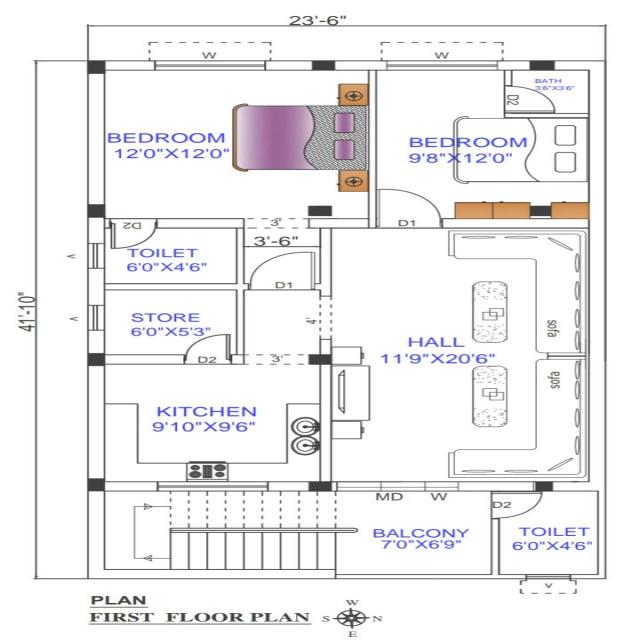Blueprint: (80, 56, 613, 584)
column: (79, 349, 115, 370), (524, 478, 564, 496), (520, 56, 559, 74), (80, 202, 115, 222), (299, 478, 340, 494), (302, 351, 338, 368), (81, 475, 110, 496), (304, 58, 341, 74), (302, 204, 339, 220), (81, 57, 109, 76), (525, 202, 556, 218)
wall: (588, 70, 608, 491), (86, 73, 106, 205), (104, 569, 337, 579), (87, 365, 105, 479), (87, 491, 106, 579), (368, 70, 378, 229), (319, 364, 331, 482), (235, 227, 246, 354), (334, 573, 527, 580), (442, 219, 590, 228), (102, 283, 250, 290), (157, 218, 246, 228), (106, 354, 184, 365), (458, 481, 536, 492), (321, 228, 333, 296), (86, 268, 105, 306), (104, 59, 158, 72), (598, 490, 606, 574), (105, 481, 158, 492), (309, 219, 369, 228), (554, 60, 605, 70), (490, 518, 499, 574), (86, 329, 106, 354), (334, 61, 388, 70), (87, 218, 105, 244), (552, 482, 592, 492), (267, 482, 310, 491), (497, 60, 531, 70), (319, 340, 332, 356), (570, 574, 607, 579), (230, 354, 246, 365)
